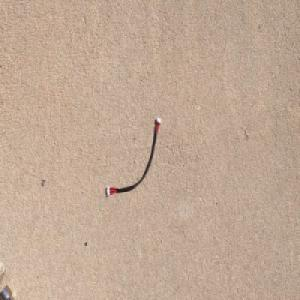Wire: (105, 116, 162, 198)
